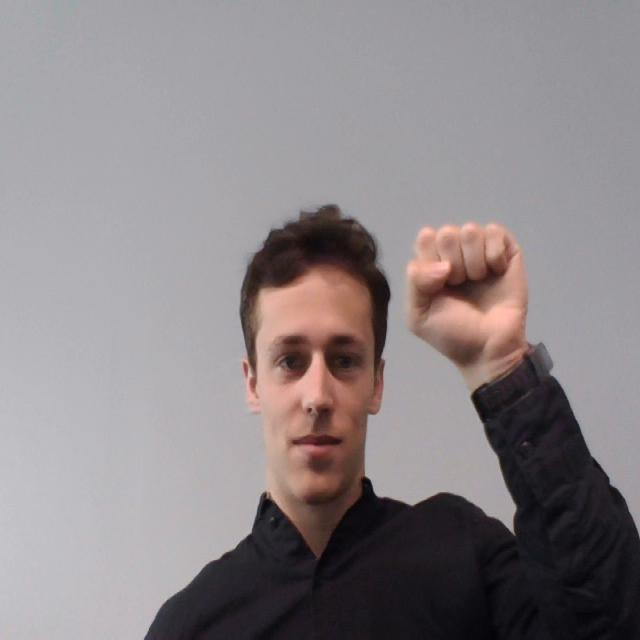stop: (401, 209, 544, 380)
